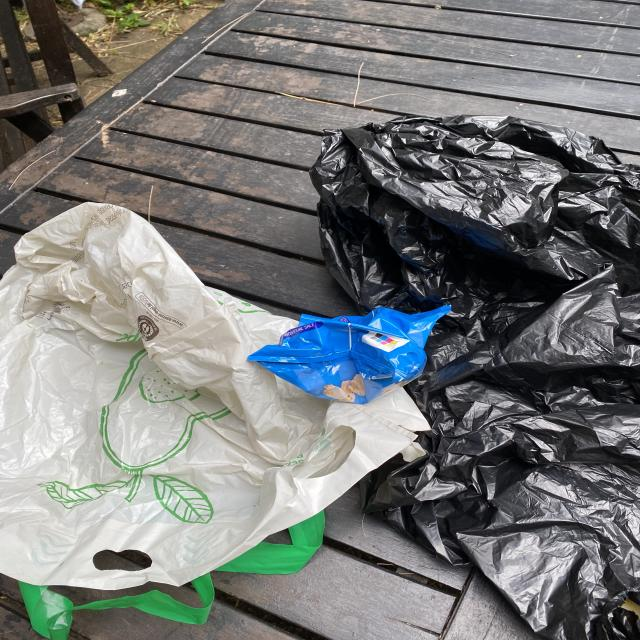bag: (0, 199, 430, 640), (310, 113, 640, 640), (246, 306, 451, 404)
